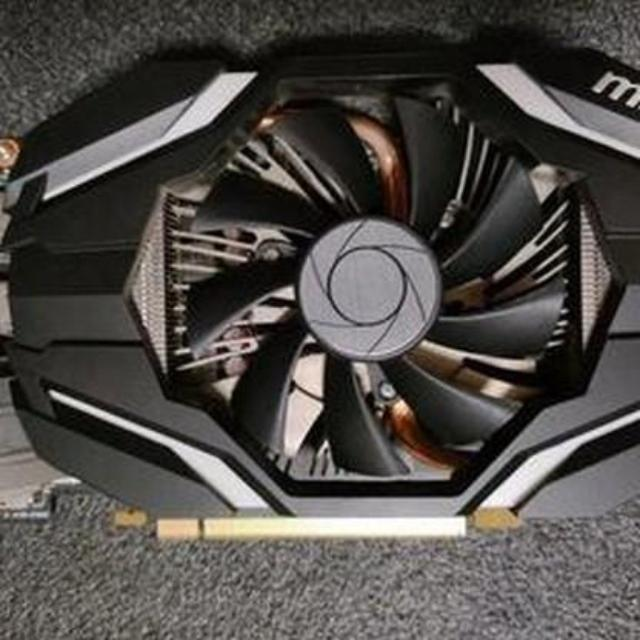GPU: (0, 46, 640, 538)
